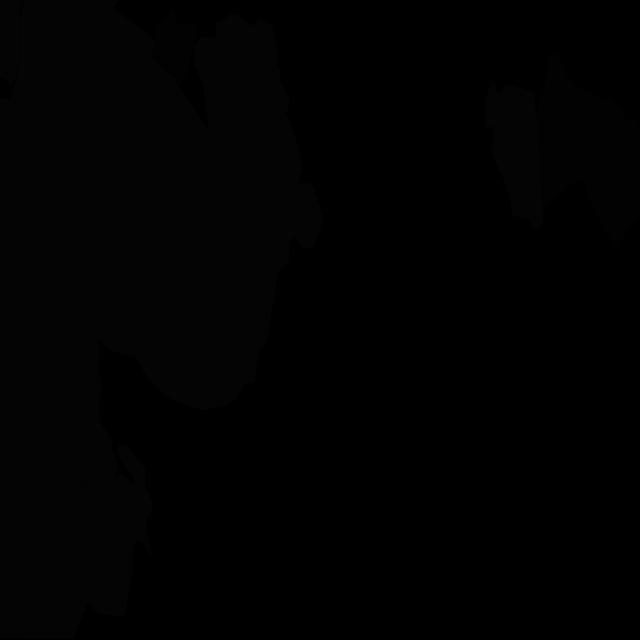cardboard: (538, 53, 640, 246), (150, 7, 197, 84)
soft_plastic: (0, 0, 303, 488), (0, 412, 152, 639), (486, 82, 544, 230), (294, 183, 322, 250)
